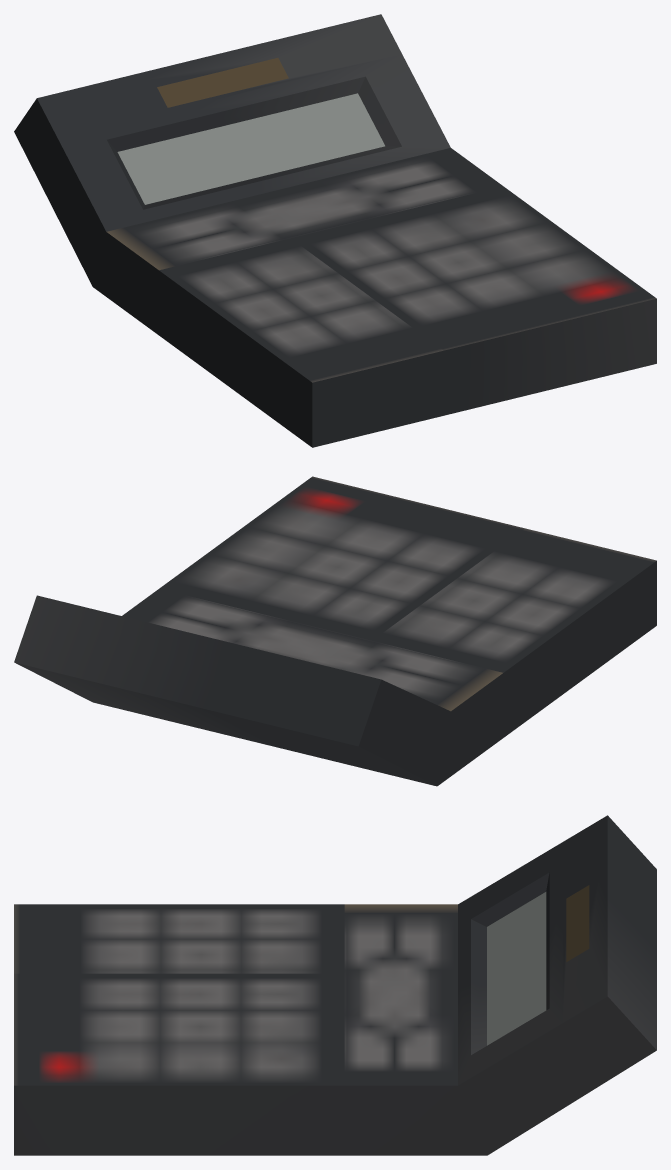
The model's file is SM_Prop_Calculator_02.glb.
3 renders of one model, top to bottom at view 1: azimuth 30°, elevation 25°; view 2: azimuth 150°, elevation 25°; view 3: azimuth 270°, elevation 25°, orthographic. The views are drawn at different scales.
Parts seen in each view (by area): view 1: SM_Prop_Calculator_02; view 2: SM_Prop_Calculator_02; view 3: SM_Prop_Calculator_02.
Part boxes in pixels (x1,y1,x2,y2): SM_Prop_Calculator_02: [14, 14, 656, 447]; SM_Prop_Calculator_02: [14, 476, 656, 786]; SM_Prop_Calculator_02: [14, 815, 656, 1155].
Bounding box in the file's own units: 0.1494 × 0.0613 × 0.2241.
1 material, 1 textured.
